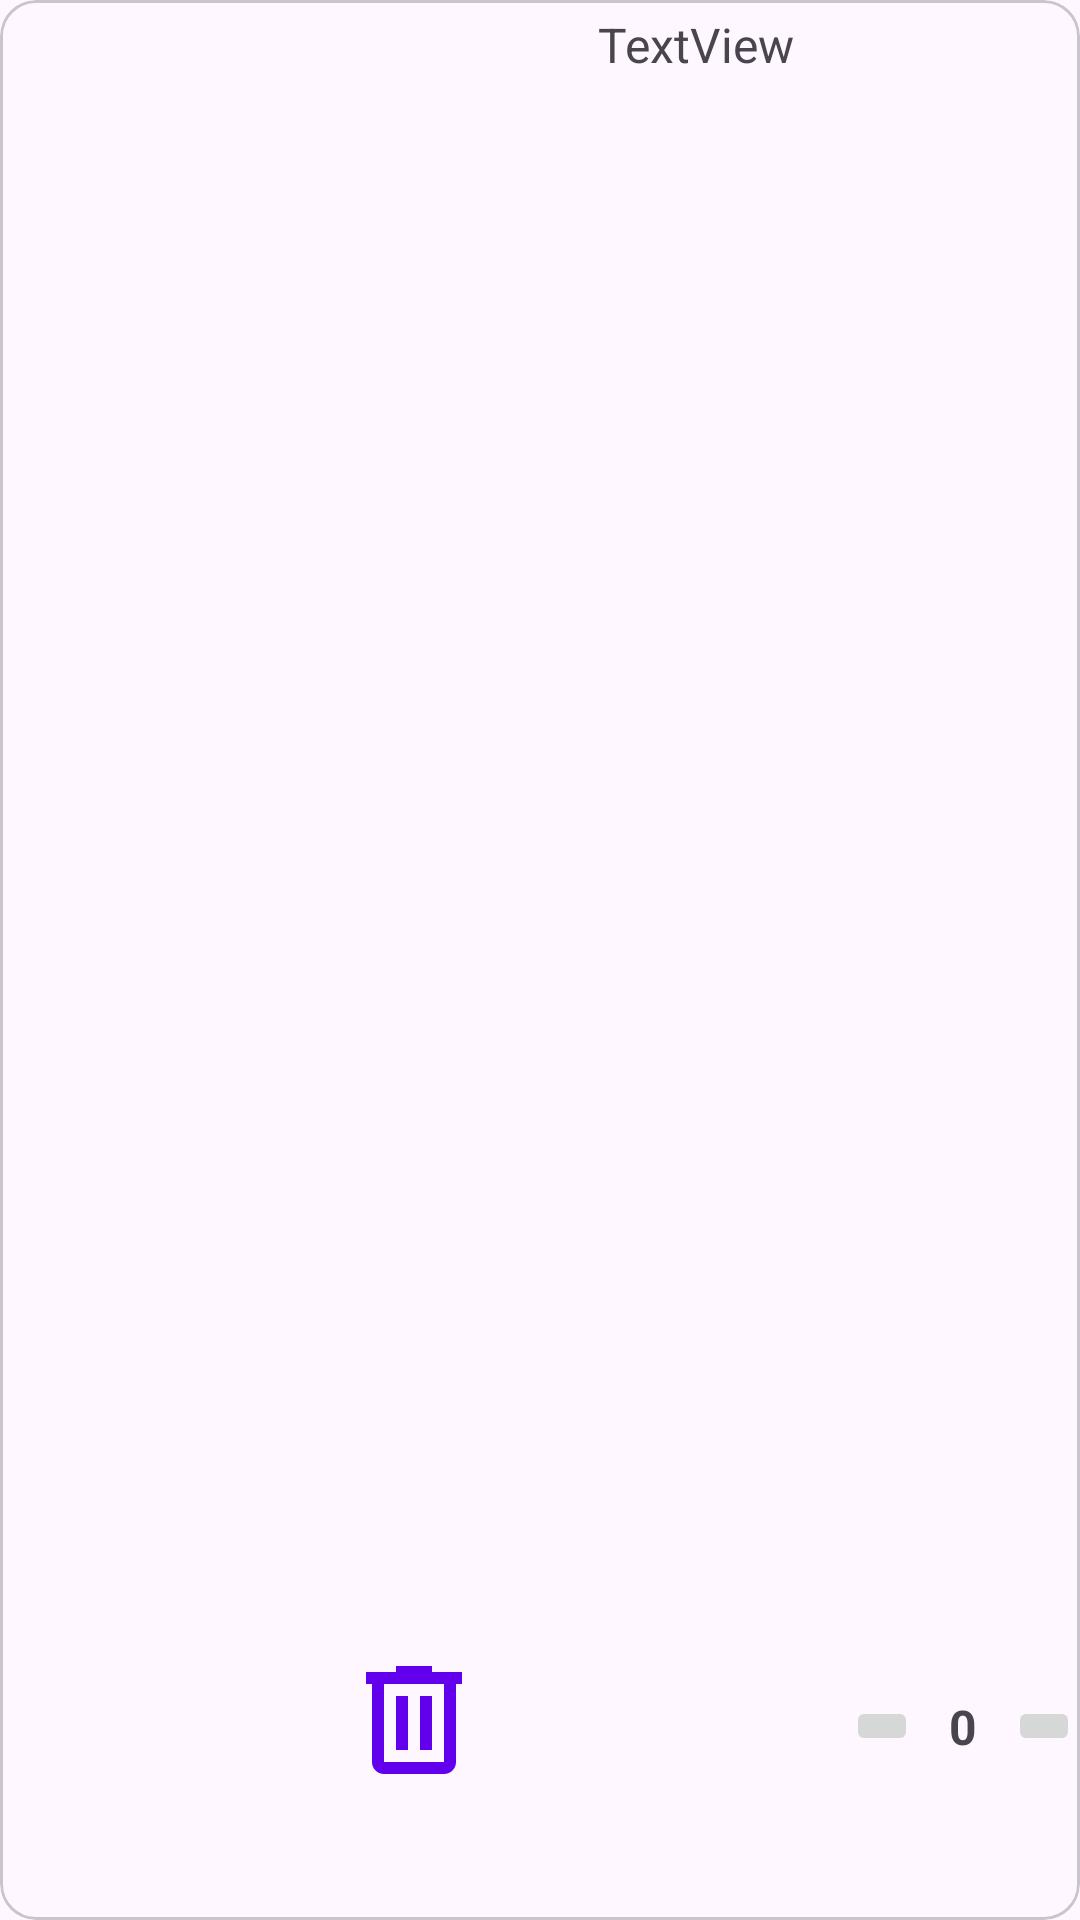

Where icons sit on this 1080×1920 app screen, as (x1,y1,x2,y2):
delete: (366,1666,462,1774)
